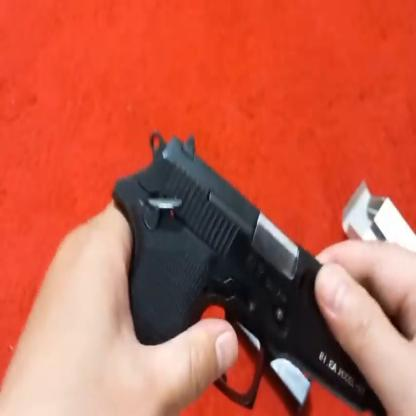handgun: (110, 123, 373, 400)
